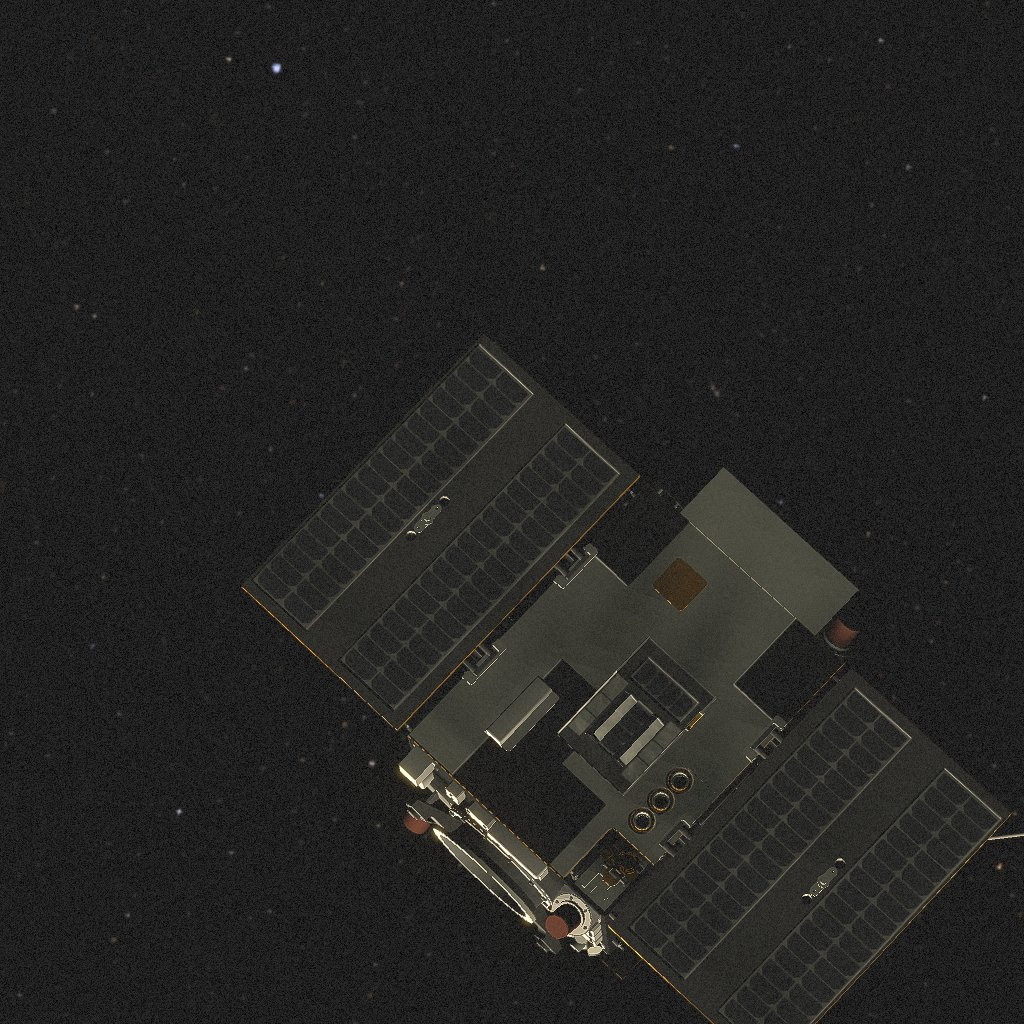proba_2: (242, 334, 1024, 1024)
